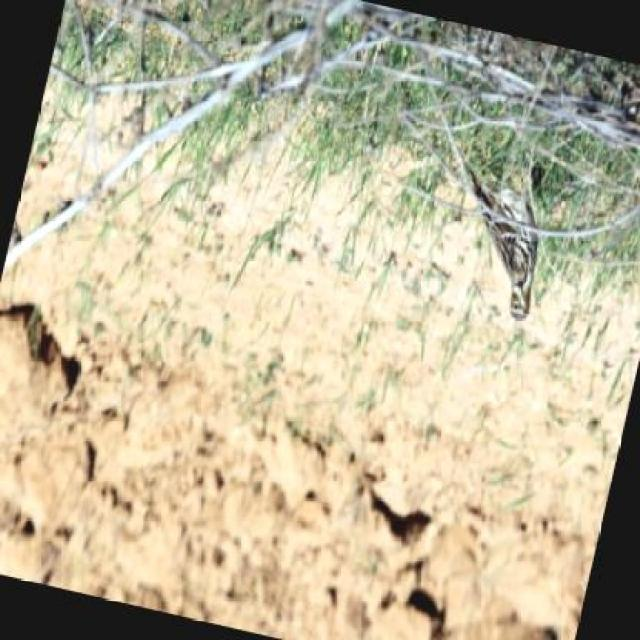Bird: (468, 171, 539, 324)
